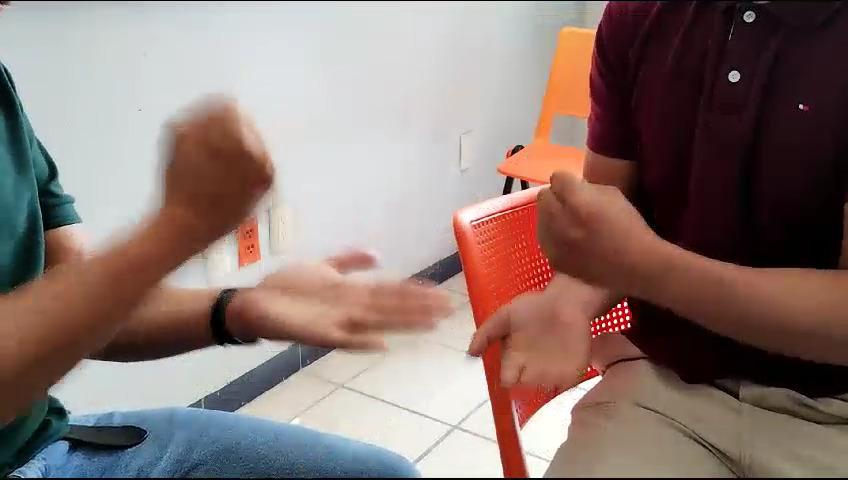Paper: (237, 244, 465, 362)
Stone: (139, 81, 289, 237), (530, 163, 667, 302)
